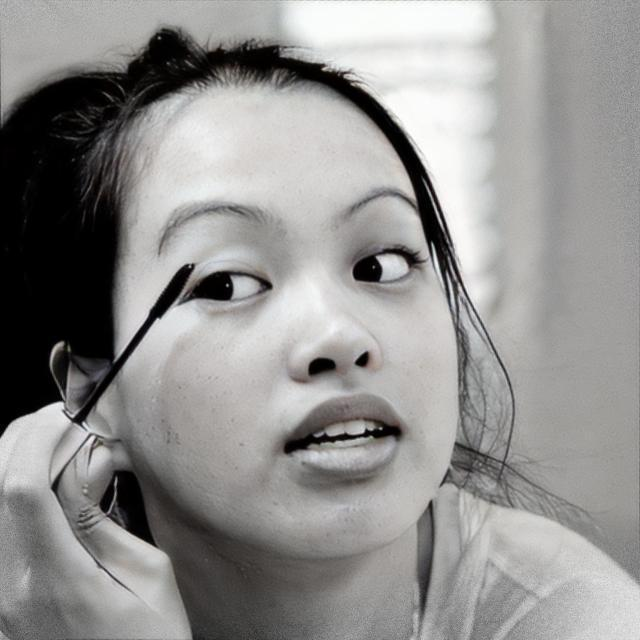surprise: (120, 75, 461, 560)
